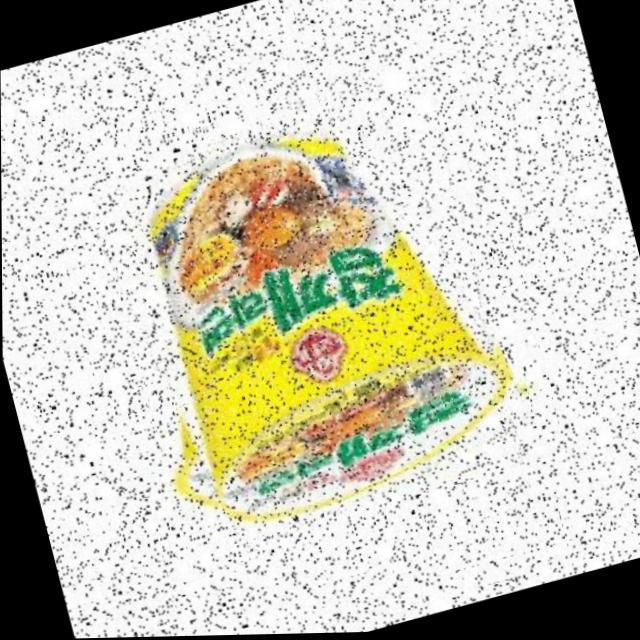Miscellaneous: (85, 63, 527, 558)
